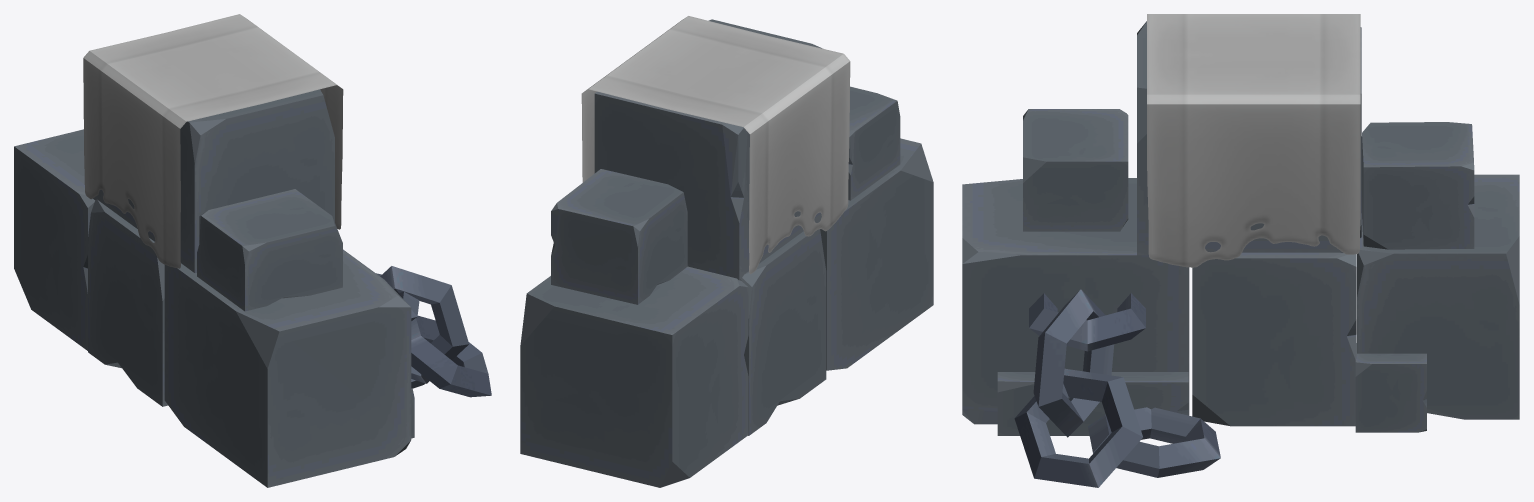
The model's file is Wall1B-010_40_27_8203.fbx.
The picture shows the model from 3 angles, left to right: view 1: azimuth 30°, elevation 25°; view 2: azimuth 150°, elevation 25°; view 3: azimuth 270°, elevation 25°; orthographic projection. The views are drawn at different scales.
Parts seen in each view (by area): view 1: 1B_Wall2, Plane_002 (1), ChainLink (3), ChainLink (2); view 2: 1B_Wall2, Plane_002 (1); view 3: 1B_Wall2, Plane_002 (1), ChainLink (3), ChainLink (2), ChainLink (4), ChainLink (1).
Part boxes in pixels (bbox=[...]): 1B_Wall2: bbox=[14, 89, 414, 487]; Plane_002 (1): bbox=[83, 14, 343, 268]; ChainLink (3): bbox=[411, 315, 491, 397]; ChainLink (2): bbox=[380, 266, 468, 383]; 1B_Wall2: bbox=[520, 19, 933, 487]; Plane_002 (1): bbox=[581, 16, 850, 274]; 1B_Wall2: bbox=[962, 21, 1519, 435]; Plane_002 (1): bbox=[1147, 14, 1360, 267]; ChainLink (3): bbox=[1014, 368, 1142, 487]; ChainLink (2): bbox=[1033, 289, 1114, 437]; ChainLink (4): bbox=[1087, 407, 1220, 477]; ChainLink (1): bbox=[1029, 293, 1145, 351].
Size of the model in its own units: 1.89 by 1.98 by 2.95.
